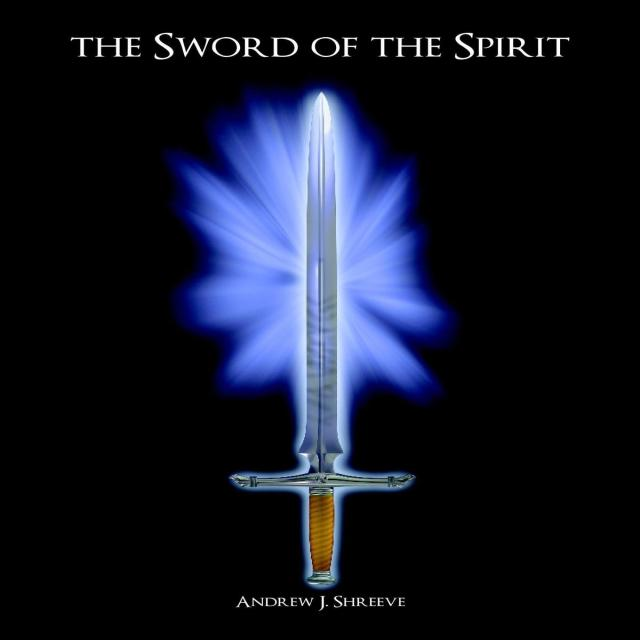weapon: (225, 87, 426, 588)
